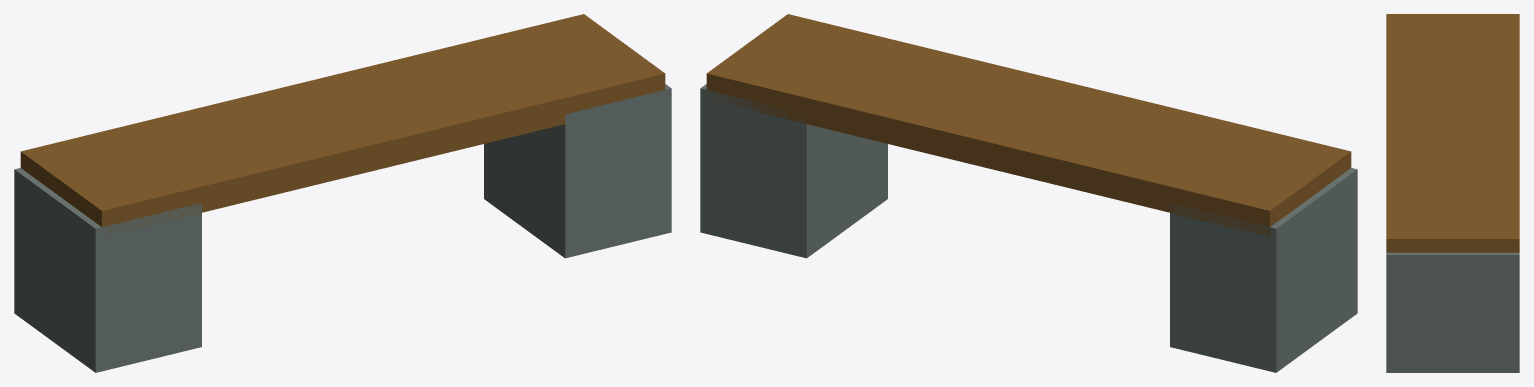
File: SM_Banco_v2_LOD1.fbx
3 renders of one model, left to right at view 1: azimuth 30°, elevation 25°; view 2: azimuth 150°, elevation 25°; view 3: azimuth 270°, elevation 25°, orthographic. The views are drawn at different scales.
Parts seen in each view (by area): view 1: SM_urbano_v12_LOD1; view 2: SM_urbano_v12_LOD1; view 3: SM_urbano_v12_LOD1.
Part boxes in pixels (x1=…): SM_urbano_v12_LOD1: x1=14, y1=14, x2=671, y2=372; SM_urbano_v12_LOD1: x1=700, y1=14, x2=1357, y2=372; SM_urbano_v12_LOD1: x1=1386, y1=14, x2=1519, y2=372.
Size of the model in its own units: 1.84 by 0.49 by 0.45.
